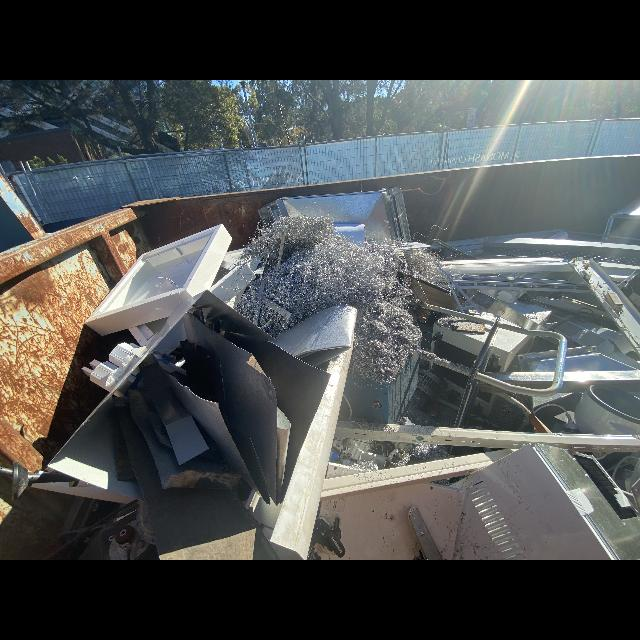Aluminium: (235, 215, 420, 382), (573, 259, 640, 357), (575, 388, 640, 434), (554, 320, 631, 354), (436, 263, 482, 313), (457, 285, 591, 293), (453, 279, 587, 287), (416, 253, 441, 287), (447, 281, 465, 312), (497, 290, 528, 303), (146, 318, 167, 334), (478, 289, 501, 298)
Ferrous Metal: (119, 410, 258, 560), (446, 446, 618, 560), (269, 334, 353, 560), (86, 225, 231, 335), (224, 333, 330, 468), (165, 373, 257, 490), (218, 338, 280, 504), (321, 449, 517, 500), (48, 396, 142, 502), (335, 421, 640, 453), (337, 483, 462, 560), (130, 390, 223, 488), (339, 349, 420, 424), (475, 330, 567, 396), (271, 305, 357, 366), (483, 236, 640, 269), (454, 320, 499, 427), (148, 384, 208, 464), (181, 340, 227, 417), (12, 462, 79, 497), (440, 257, 575, 274), (433, 320, 490, 355), (210, 263, 255, 307), (490, 329, 533, 372), (420, 302, 494, 326), (276, 408, 291, 495), (424, 305, 490, 324), (90, 361, 119, 392), (493, 317, 528, 335), (109, 342, 134, 366), (334, 224, 365, 243), (128, 324, 154, 346), (450, 317, 485, 333), (221, 249, 242, 270), (115, 524, 135, 544), (82, 360, 102, 376), (0, 468, 10, 475)
Galvanized Steel: (534, 445, 639, 559), (258, 188, 410, 240), (470, 291, 549, 331), (556, 370, 640, 393), (564, 346, 639, 371), (483, 372, 555, 390), (518, 350, 557, 372)
